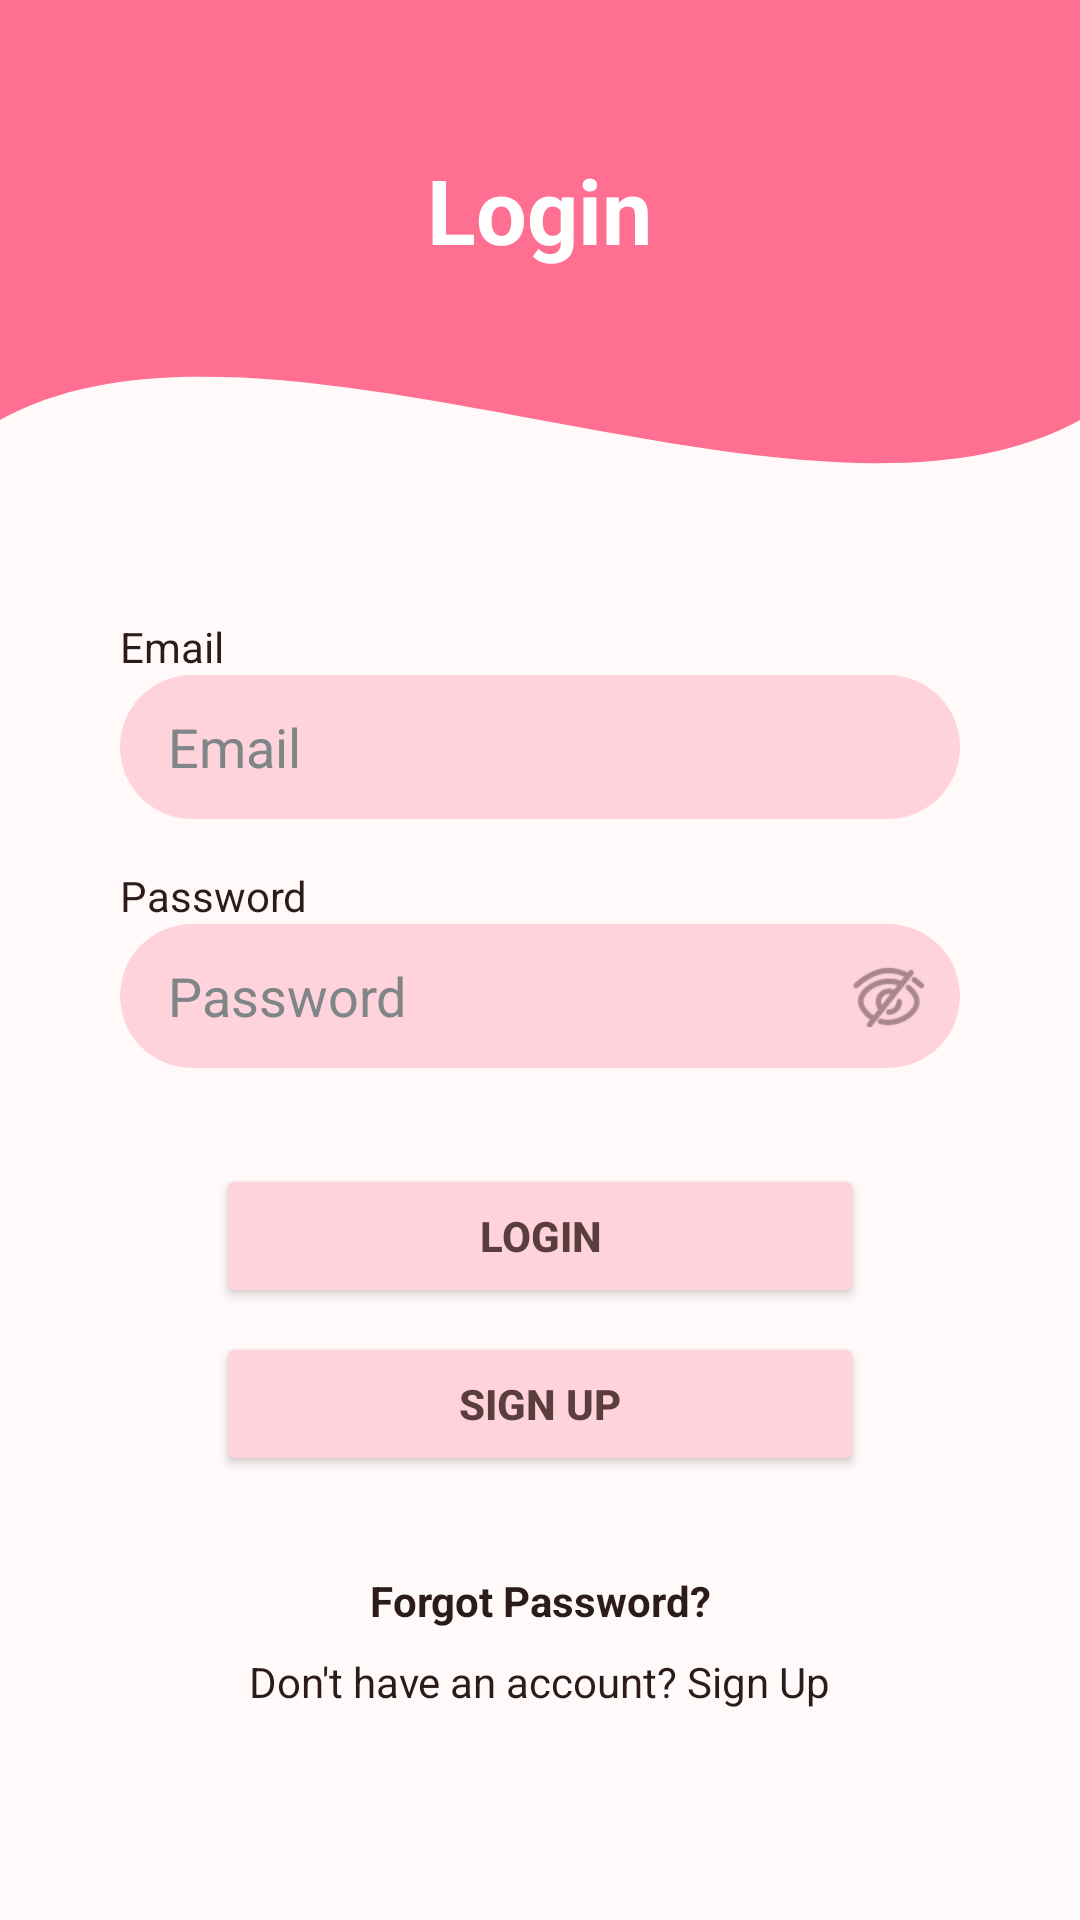

Named icons in this screenshot (1080px x 1920px) and their bounding boxes, (x1, y1, x2, y2):
eye off: (853, 968, 924, 1027)
